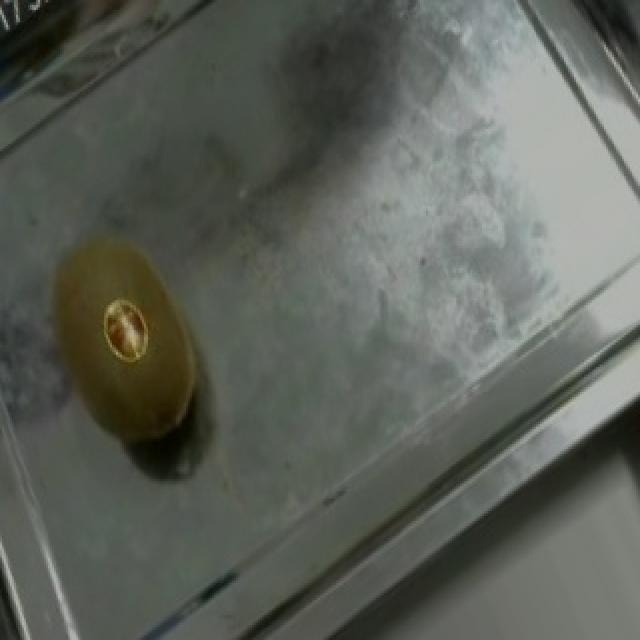Fruit: (4, 201, 242, 481)
